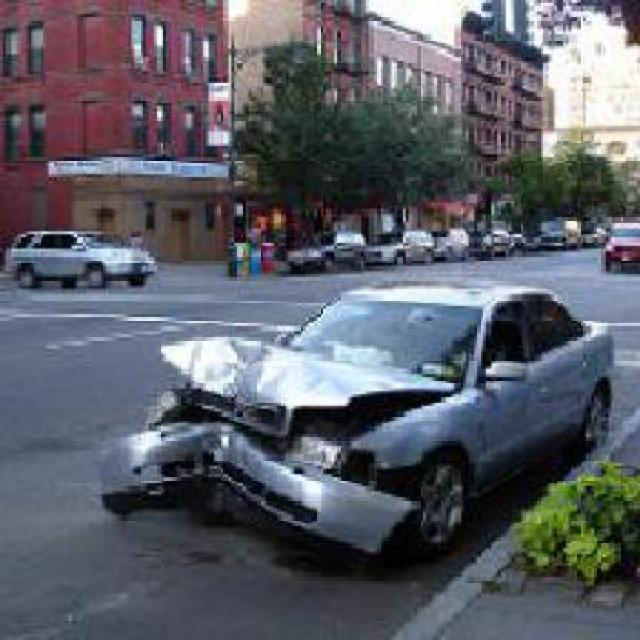damaged-front-bumper: (116, 428, 415, 544)
damaged-hood: (166, 339, 452, 439)
